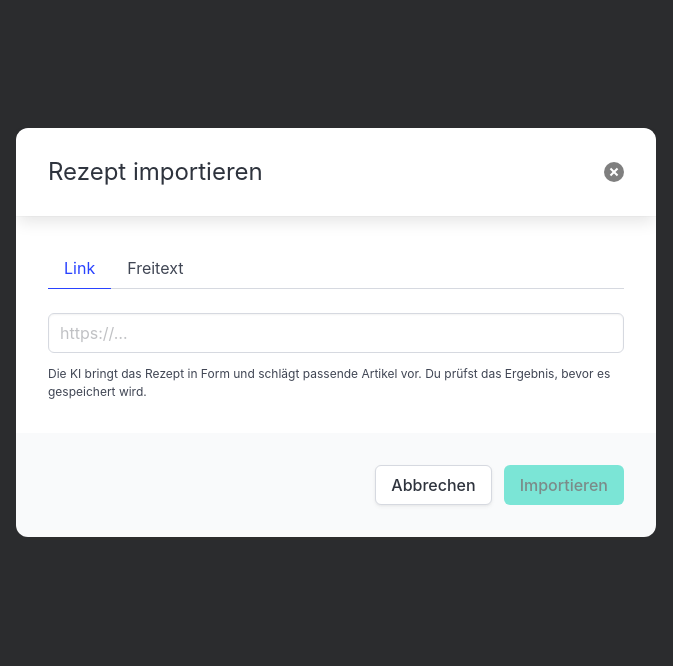
Test: ImportModal › shows progress while the AI works
Click the link "Freitext".
click(155, 268)  # box left=111, top=248, right=200, bottom=288
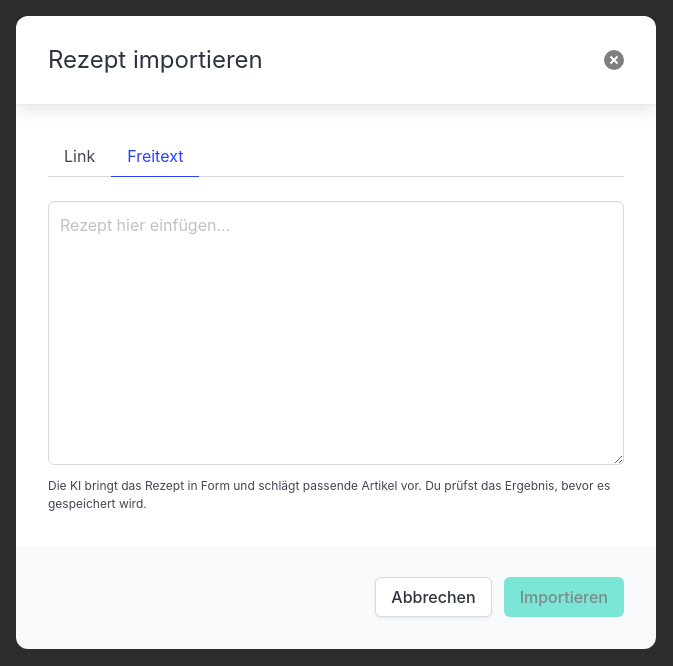
Type "x" into the text box named "Rezepttext".
click(336, 332); type("x")  # box left=48, top=200, right=624, bottom=464
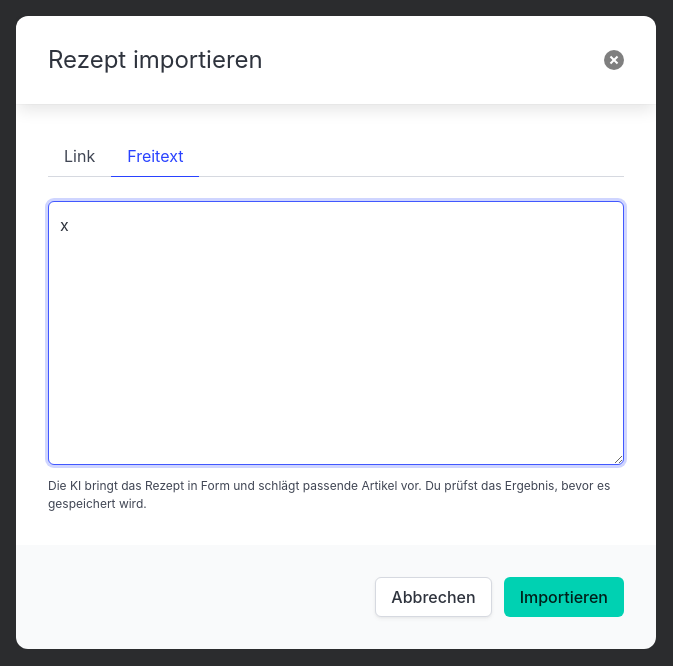
Click the button "Importieren".
click(564, 596)  # box left=504, top=576, right=624, bottom=616
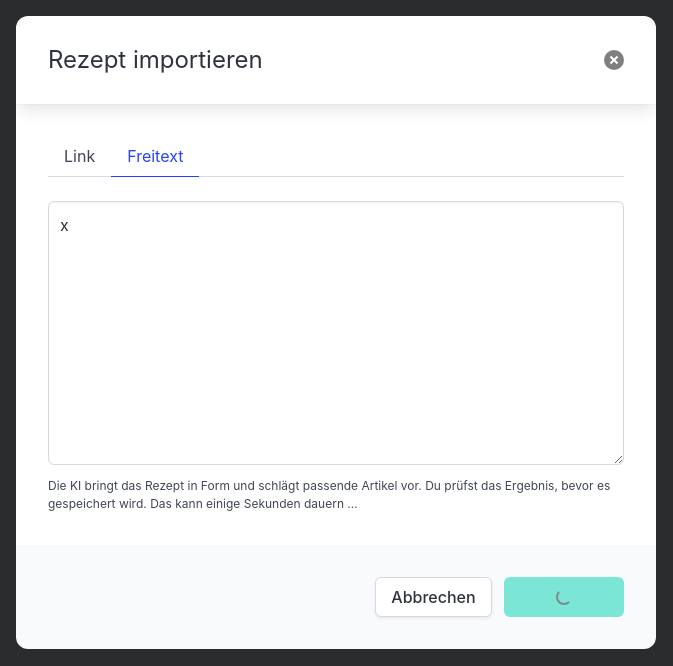
Check: the text "einige Sekunden" is shown, box left=147, top=496, right=358, bottom=510
Check: the button "Importieren" is disabled, box left=504, top=576, right=624, bottom=616
